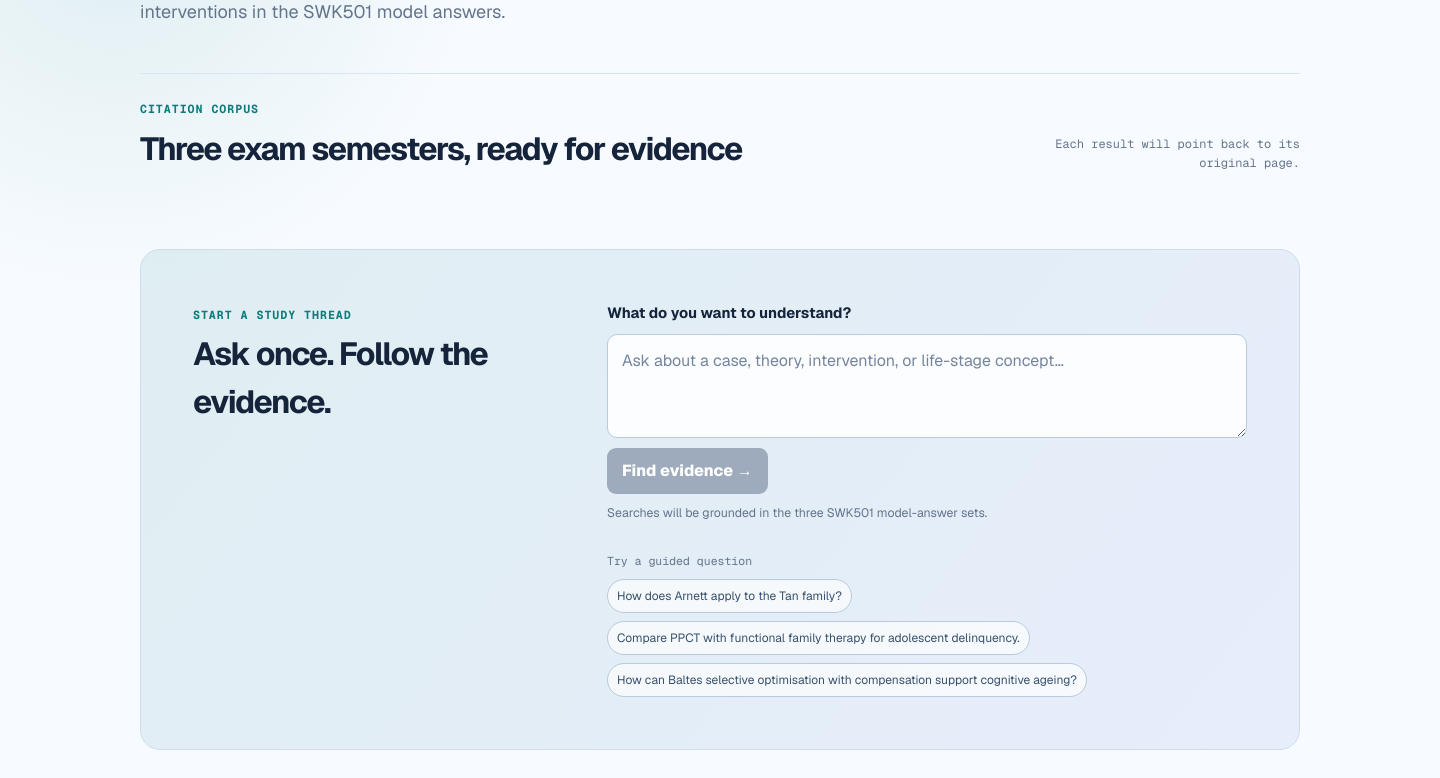
cancels a running request without reporting an offline failure
This screenshot has width=1440, height=778.
(page scrolled)
Type "Explain Baltes" into the text box at (927, 386), box [607,334,1247,438]
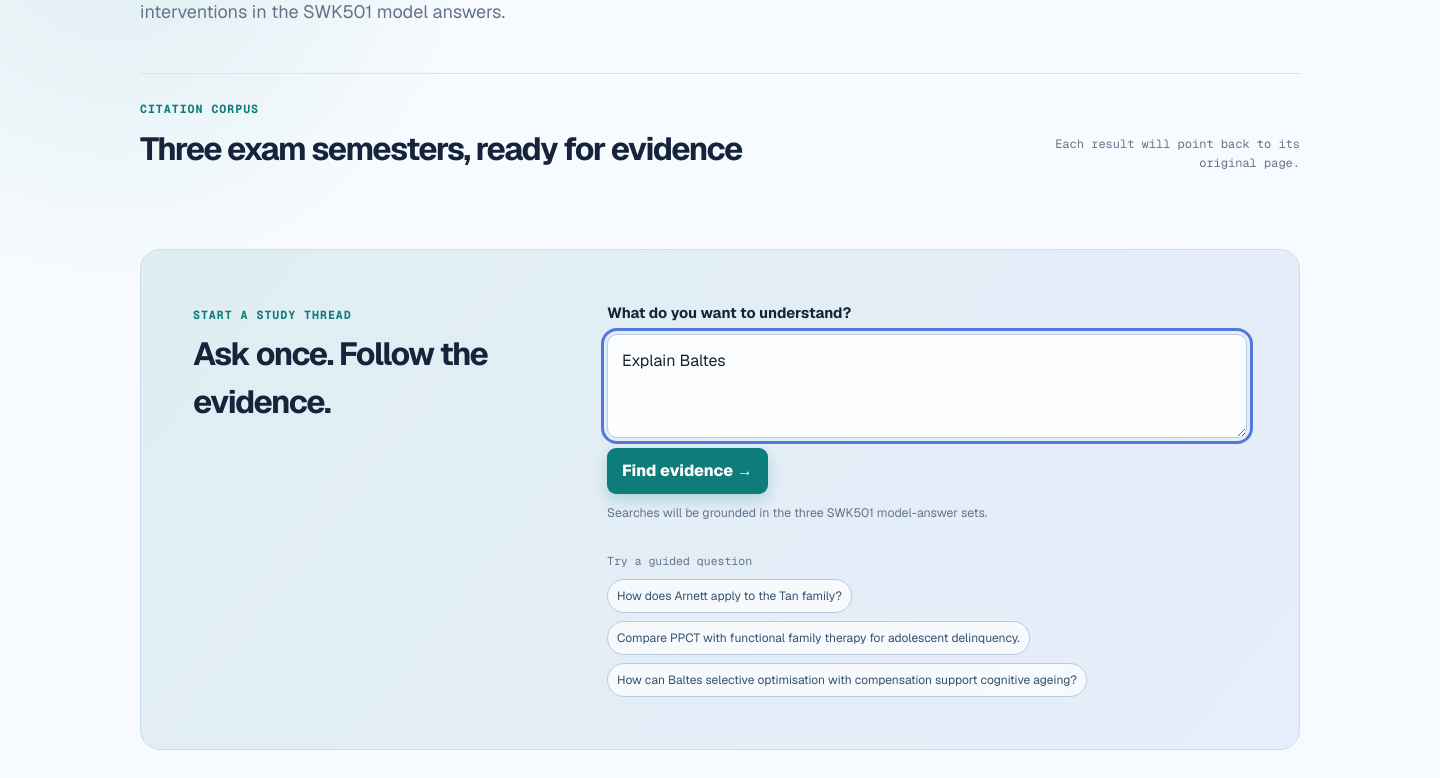
Click the button "Find evidence →" at (687, 471), box [607,448,768,494]
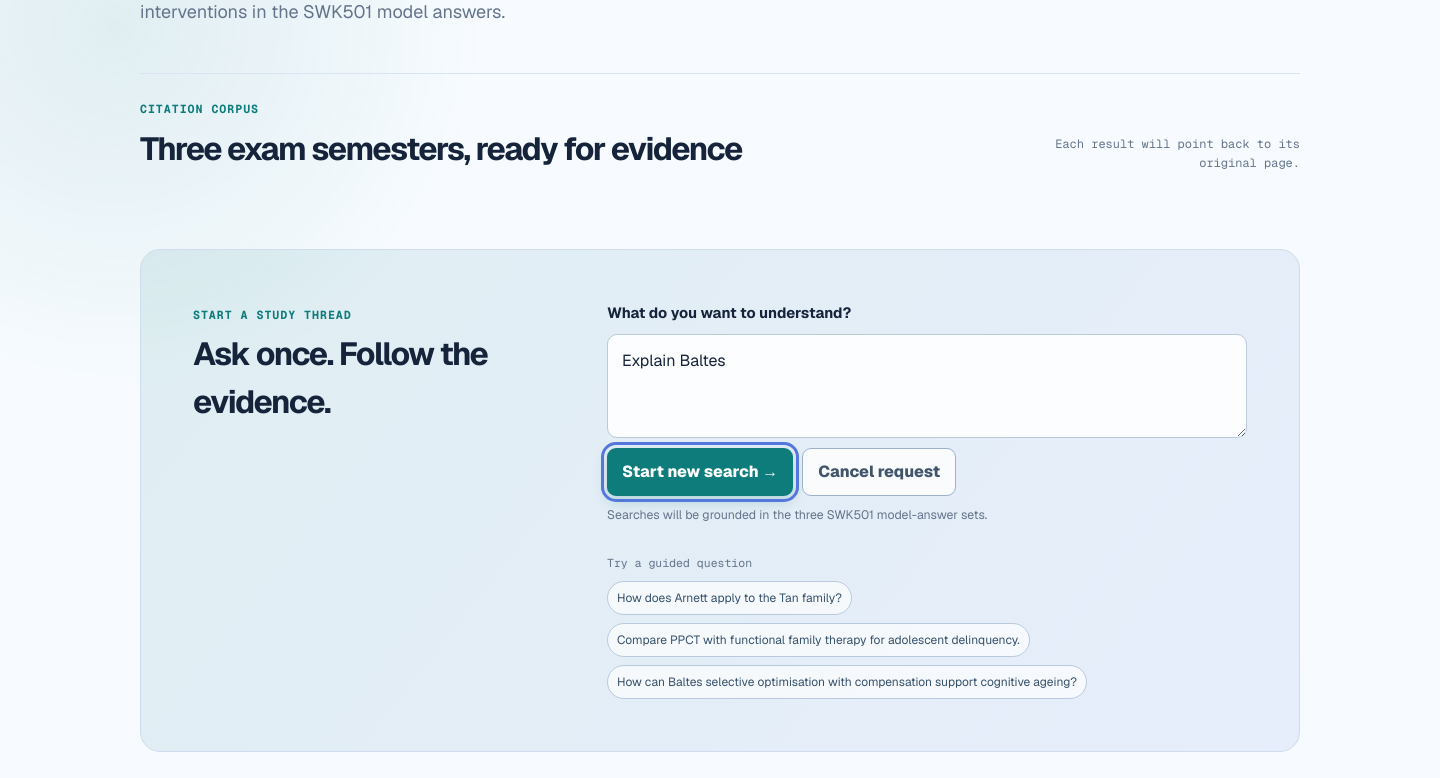
Click the button "Cancel request" at (879, 472), box [802,448,956,496]
(page scrolled)
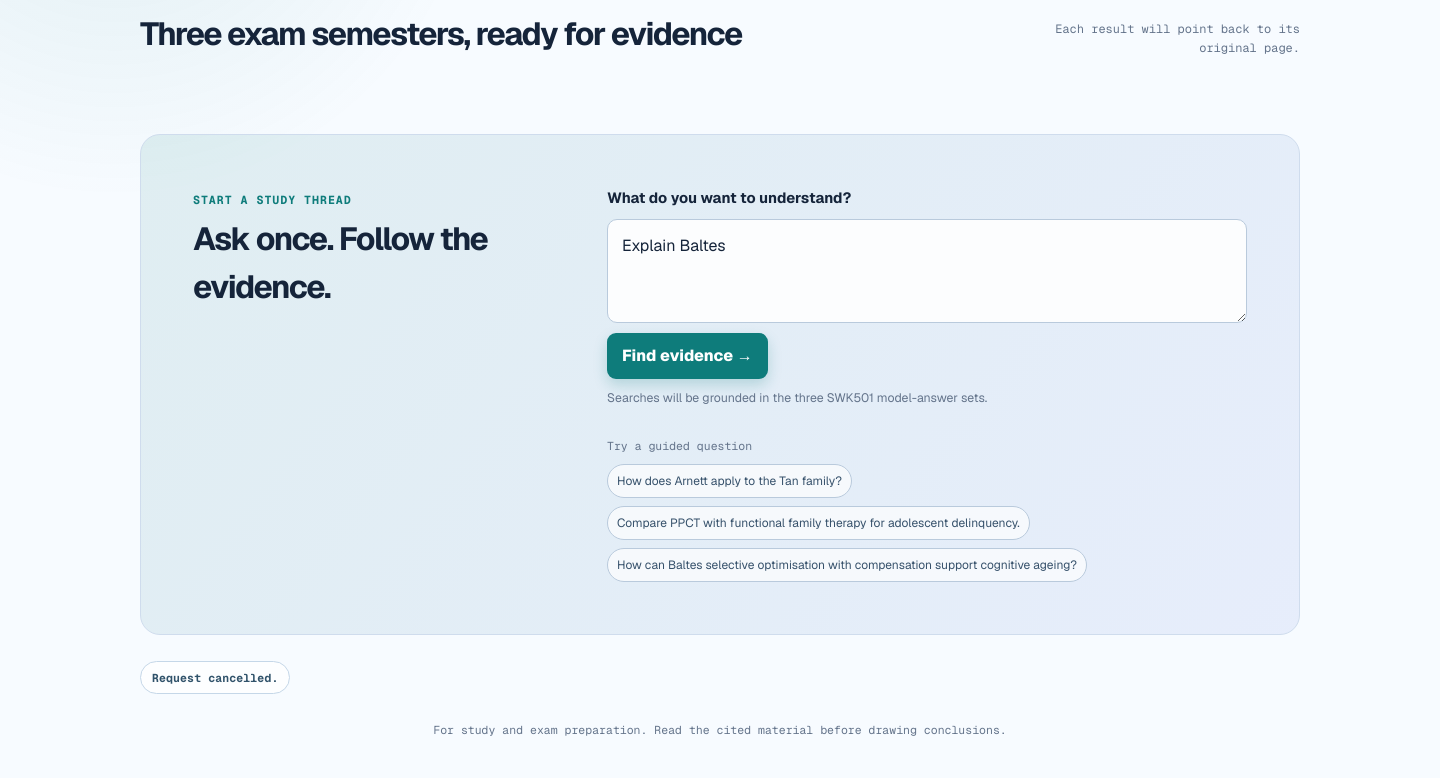
Expected: the text "Request cancelled." is shown, [140,660,290,694]
